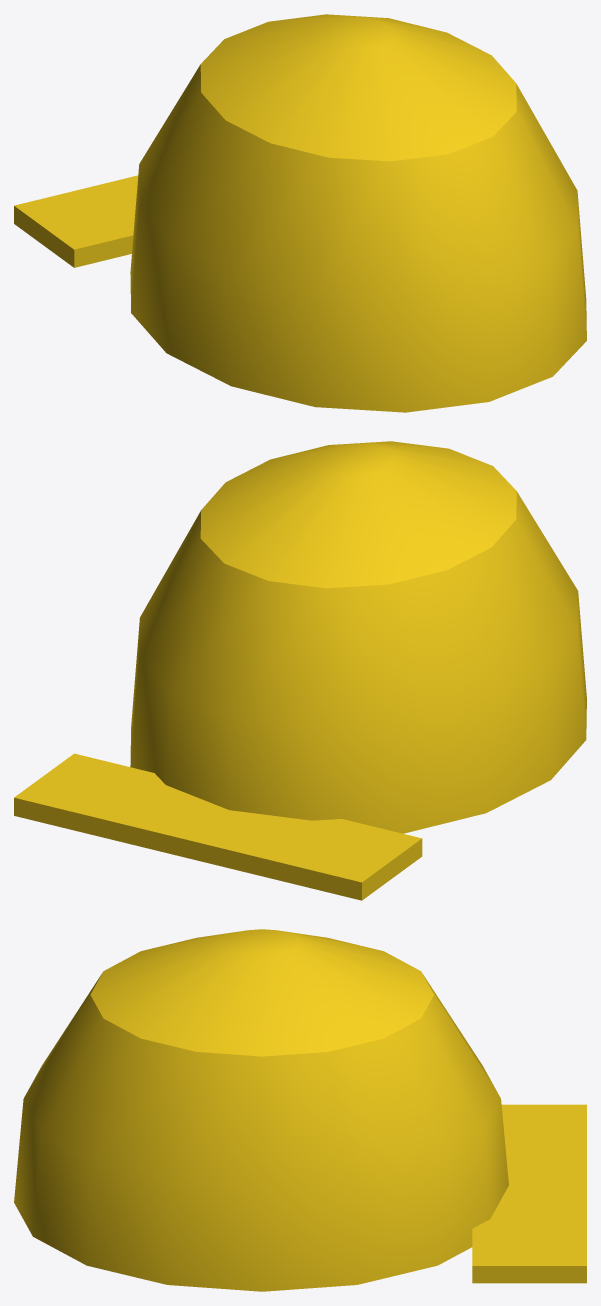
Rendered from plant.tool.hard_hat.glb.
The picture shows the model from 3 angles, top to bottom: view 1: azimuth 30°, elevation 25°; view 2: azimuth 150°, elevation 25°; view 3: azimuth 270°, elevation 25°; orthographic projection. The views are drawn at different scales.
Parts seen in each view (by area): view 1: main__plastic_yellow; view 2: main__plastic_yellow; view 3: main__plastic_yellow.
Part boxes in pixels (x1,y1,x2,y2): main__plastic_yellow: (14, 14, 586, 412); main__plastic_yellow: (14, 441, 586, 900); main__plastic_yellow: (14, 929, 586, 1291).
Bounding box in the file's own units: 0.221 × 0.15 × 0.3.
